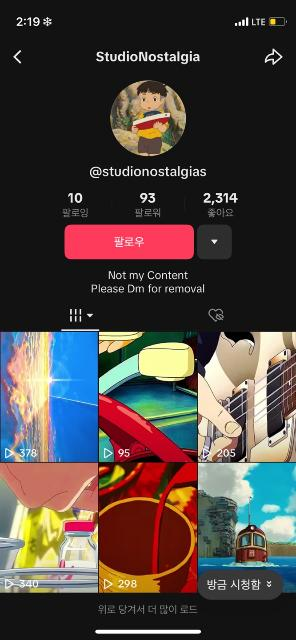Icon: (70, 308, 92, 322), (264, 49, 282, 66), (208, 308, 224, 322), (14, 49, 22, 65), (202, 448, 212, 458), (4, 578, 14, 588), (6, 448, 14, 458), (104, 448, 112, 458), (105, 579, 113, 589), (266, 580, 272, 588), (212, 238, 218, 245)
Image: (0, 331, 296, 594), (111, 80, 188, 156)
ImageButton: (198, 224, 231, 260)
Text: (92, 270, 204, 294), (90, 167, 206, 181), (95, 50, 199, 64), (98, 604, 198, 614), (204, 192, 237, 218), (135, 191, 161, 217), (63, 192, 88, 218), (207, 578, 261, 590), (114, 236, 144, 247), (19, 579, 38, 589), (20, 449, 38, 458), (118, 580, 136, 588), (218, 449, 236, 457), (118, 449, 130, 456)
TextButton: (65, 223, 193, 259)
TextImageButton: (197, 571, 283, 599)
Toolbar: (0, 31, 296, 73)
UpperTaskBar: (0, 0, 296, 30)
